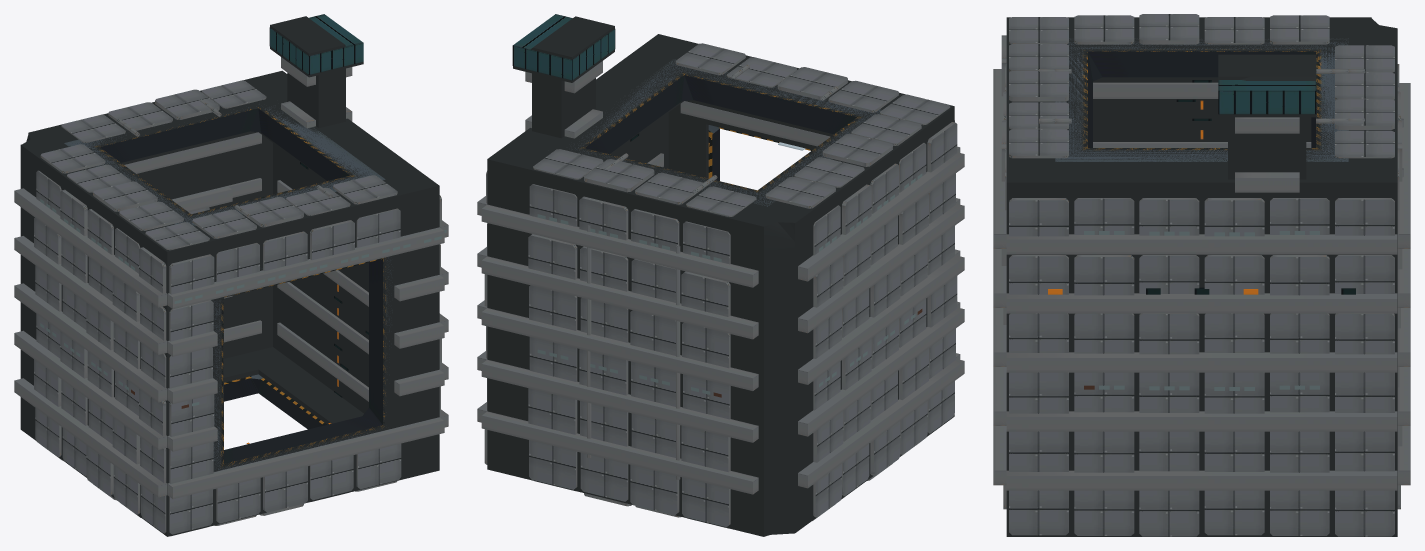
The model's file is kit_tower_top.glb.
3 renders of one model, left to right at view 1: azimuth 30°, elevation 25°; view 2: azimuth 150°, elevation 25°; view 3: azimuth 270°, elevation 25°, orthographic. The views are drawn at different scales.
Visible parts, largest first — view 1: lod0; view 2: lod0; view 3: lod0.
Part boxes in pixels (x1,y1,x2,y2): lod0: (14,14,448,536); lod0: (477,14,964,536); lod0: (993,14,1410,536).
Size of what is drawn, in the model's own units: 128 by 156 by 128.
1 material, 1 textured.
